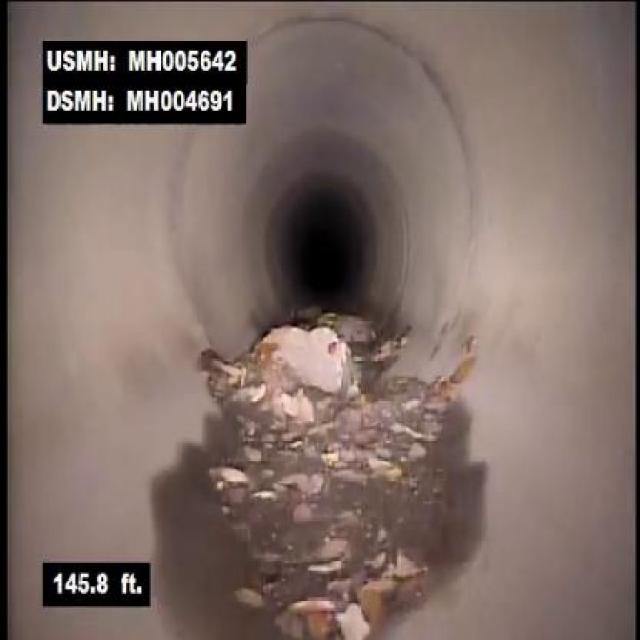Obstacle: (225, 279, 389, 423)
